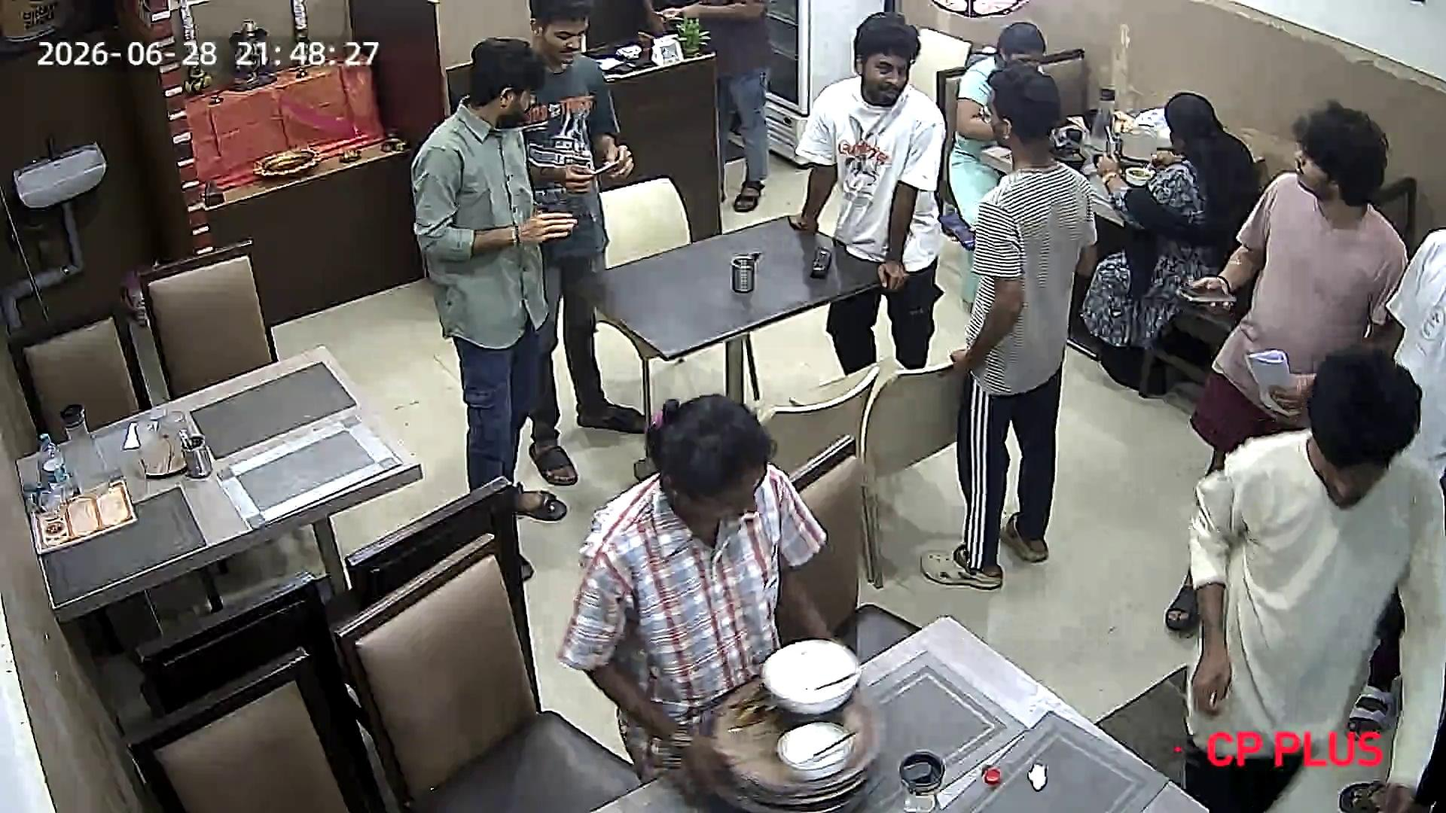clean: (570, 213, 901, 359)
dirty: (495, 579, 1209, 809), (11, 341, 421, 609)
occupied: (962, 70, 1283, 225)
